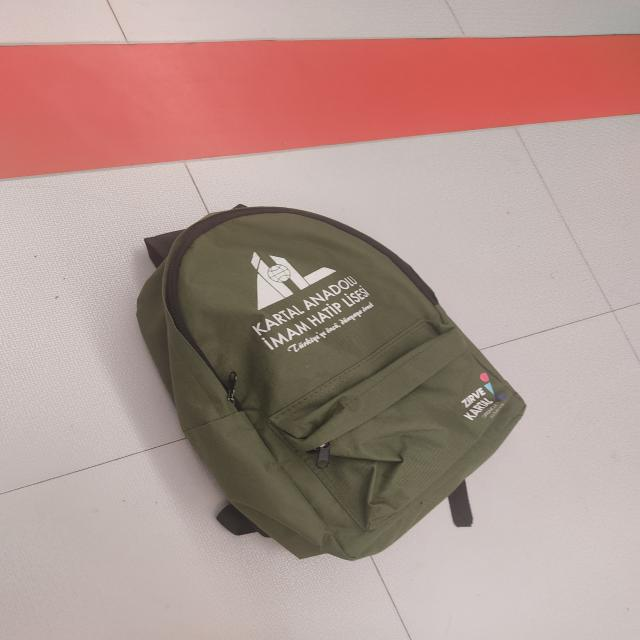bag: (130, 202, 538, 568)
